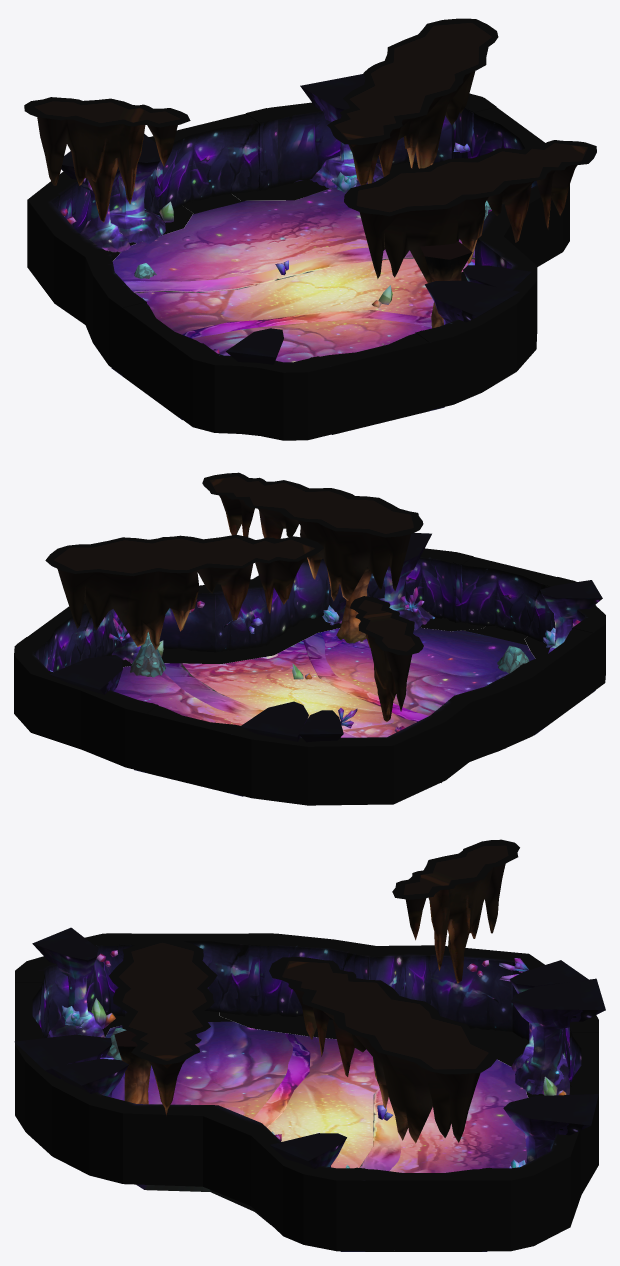
File: Dungeon_101_RoomSW_006.fbx
3 views of the same model, one above another, from view 1: azimuth 30°, elevation 25°; view 2: azimuth 150°, elevation 25°; view 3: azimuth 270°, elevation 25° (orthographic). The views are drawn at different scales.
Visible parts, largest first — view 1: Dun_101_RoomSW_001_wall, Dun_101_RoomSW_001_ground, Dun_101_Door_002 (×4), Dungeon_011_Iwa004_2, Dungeon_011_Iwa004_3, Dun_101_RoomSW_001_Object02, Dungeon_011_Iwa004_1, Dun_101_RoomSW_001_kawa01, Dun_101_RoomSW_001_shadow, Dungeon_011_Object_010, Dun_101_RoomSW_001_Object01, Dun_011_Door_002_shadow; view 2: Dun_101_RoomSW_001_wall, Dun_101_RoomSW_001_ground, Dun_101_Door_002 (×4), Dungeon_011_Iwa004_3, Dungeon_011_Iwa004_2, Dun_101_RoomSW_001_Object02, Dungeon_011_Iwa004_1, Dun_101_RoomSW_001_shadow, Dun_101_RoomSW_001_kawa01, Dun_101_RoomSW_001_Object01, Dungeon_011_Object_010, Dungeon_011_Object_011 (+2 smaller); view 3: Dun_101_RoomSW_001_wall, Dun_101_RoomSW_001_ground, Dun_101_RoomSW_001_Object02, Dungeon_011_Iwa004_3, Dun_101_Door_002 (×4), Dungeon_011_Iwa004_2, Dungeon_011_Iwa004_1, Dun_101_RoomSW_001_kawa01, Dun_101_RoomSW_001_shadow, Dun_101_RoomSW_001_Object01, Dungeon_011_Object_010.
Part boxes in pixels (x1=…): Dun_101_RoomSW_001_wall: x1=27, y1=93, x2=569, y2=440; Dun_101_RoomSW_001_ground: x1=111, y1=180, x2=474, y2=434; Dun_101_Door_002 (×4): x1=111, y1=98, x2=545, y2=434; Dungeon_011_Iwa004_2: x1=344, y1=140, x2=596, y2=283; Dungeon_011_Iwa004_3: x1=327, y1=18, x2=498, y2=185; Dun_101_RoomSW_001_Object02: x1=61, y1=74, x2=537, y2=364; Dungeon_011_Iwa004_1: x1=24, y1=97, x2=190, y2=222; Dun_101_RoomSW_001_kawa01: x1=124, y1=247, x2=474, y2=338; Dun_101_RoomSW_001_shadow: x1=106, y1=162, x2=467, y2=281; Dungeon_011_Object_010: x1=420, y1=241, x2=472, y2=328; Dun_101_RoomSW_001_Object01: x1=60, y1=142, x2=491, y2=353; Dun_011_Door_002_shadow: x1=183, y1=194, x2=245, y2=214; Dun_101_RoomSW_001_wall: x1=14, y1=548, x2=605, y2=805; Dun_101_RoomSW_001_ground: x1=113, y1=627, x2=595, y2=796; Dun_101_Door_002 (×4): x1=16, y1=552, x2=603, y2=793; Dungeon_011_Iwa004_3: x1=45, y1=534, x2=323, y2=649; Dungeon_011_Iwa004_2: x1=202, y1=472, x2=423, y2=601; Dun_101_RoomSW_001_Object02: x1=49, y1=533, x2=602, y2=742; Dungeon_011_Iwa004_1: x1=350, y1=596, x2=423, y2=721; Dun_101_RoomSW_001_shadow: x1=111, y1=617, x2=549, y2=667; Dun_101_RoomSW_001_kawa01: x1=163, y1=632, x2=505, y2=782; Dun_101_RoomSW_001_Object01: x1=50, y1=587, x2=580, y2=732; Dungeon_011_Object_010: x1=336, y1=567, x2=371, y2=643; Dungeon_011_Object_011: x1=130, y1=632, x2=165, y2=677; Dun_101_RoomSW_001_wall: x1=15, y1=933, x2=598, y2=1251; Dun_101_RoomSW_001_ground: x1=105, y1=1021, x2=527, y2=1251; Dun_101_RoomSW_001_Object02: x1=14, y1=927, x2=605, y2=1168; Dungeon_011_Iwa004_3: x1=269, y1=957, x2=496, y2=1143; Dun_101_Door_002 (×4): x1=15, y1=933, x2=598, y2=1251; Dungeon_011_Iwa004_2: x1=109, y1=938, x2=217, y2=1116; Dungeon_011_Iwa004_1: x1=392, y1=839, x2=519, y2=983; Dun_101_RoomSW_001_kawa01: x1=136, y1=1033, x2=401, y2=1224; Dun_101_RoomSW_001_shadow: x1=102, y1=1012, x2=544, y2=1250; Dun_101_RoomSW_001_Object01: x1=62, y1=950, x2=566, y2=1168; Dungeon_011_Object_010: x1=114, y1=1030, x2=150, y2=1104.
Size of what is drawn, in the model's own units: 15 by 5.32 by 15.2.
